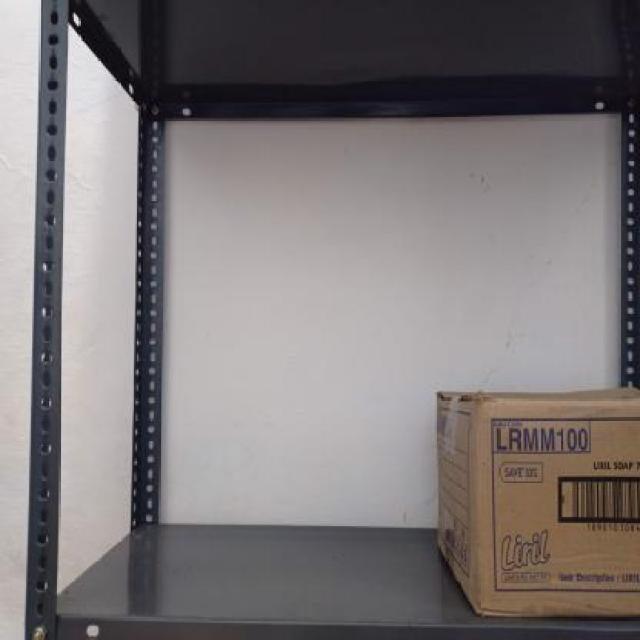box: (474, 396, 640, 613)
